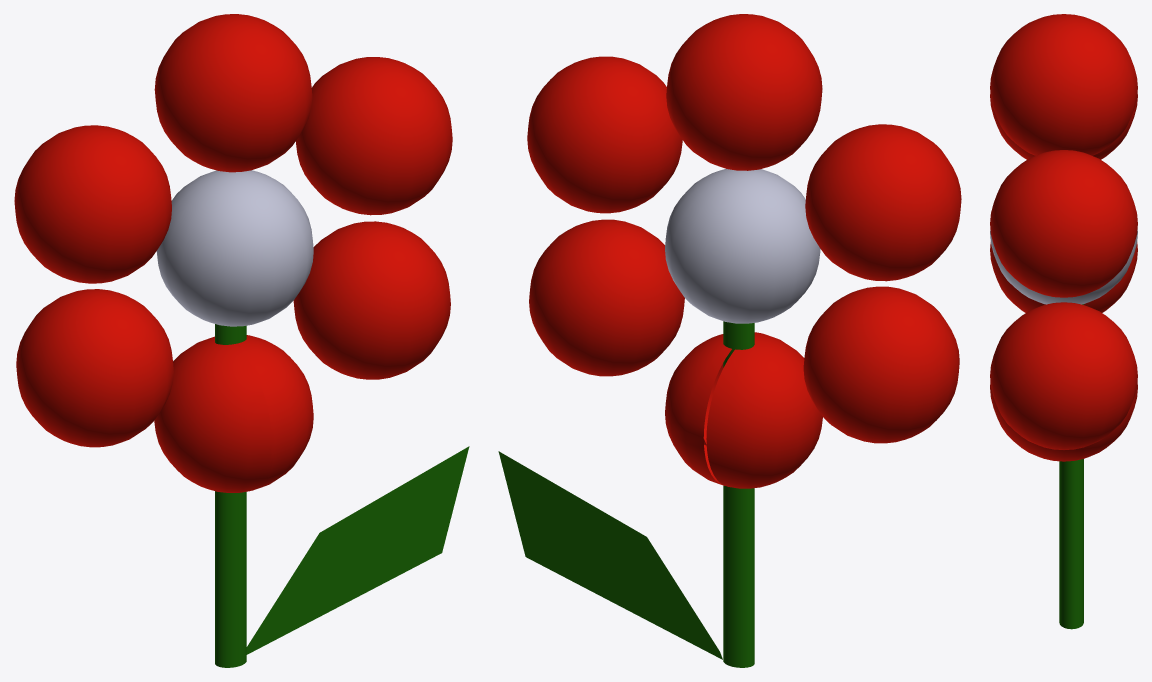
Rendered from flower_base.fbx.
3 views of the same model, side by side, from view 1: azimuth 30°, elevation 25°; view 2: azimuth 150°, elevation 25°; view 3: azimuth 270°, elevation 25° (orthographic). The views are drawn at different scales.
Visible parts, largest first — view 1: obj6, obj2, obj1; view 2: obj6, obj2, obj1; view 3: obj6, obj2, obj1.
Boxes of the visible parts, <box> form: obj6: <box>14,14,452,492</box>; obj2: <box>215,324,469,667</box>; obj1: <box>156,170,313,326</box>; obj6: <box>527,14,961,488</box>; obj2: <box>498,321,754,667</box>; obj1: <box>665,169,820,323</box>; obj6: <box>990,14,1137,461</box>; obj2: <box>1059,304,1083,629</box>; obj1: <box>990,230,1137,304</box>.
Size of the model in its own units: 657 by 896 by 200.
